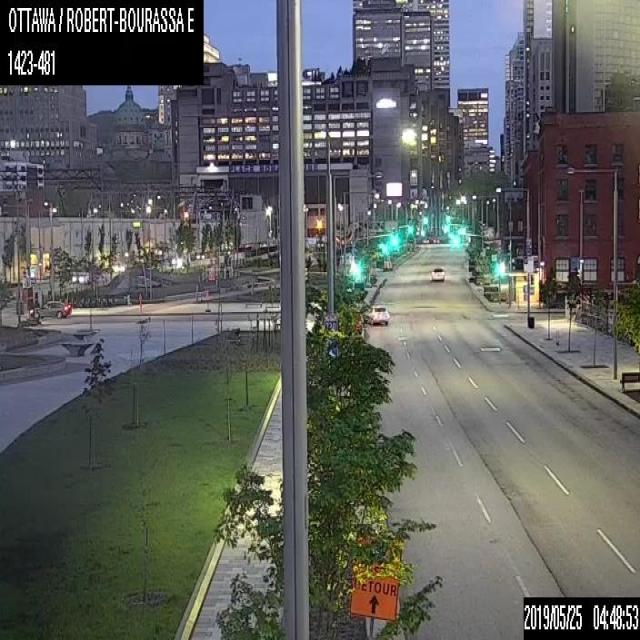construction: (350, 542, 403, 638)
vehicle: (29, 298, 69, 318), (366, 303, 388, 324), (430, 265, 444, 280)
